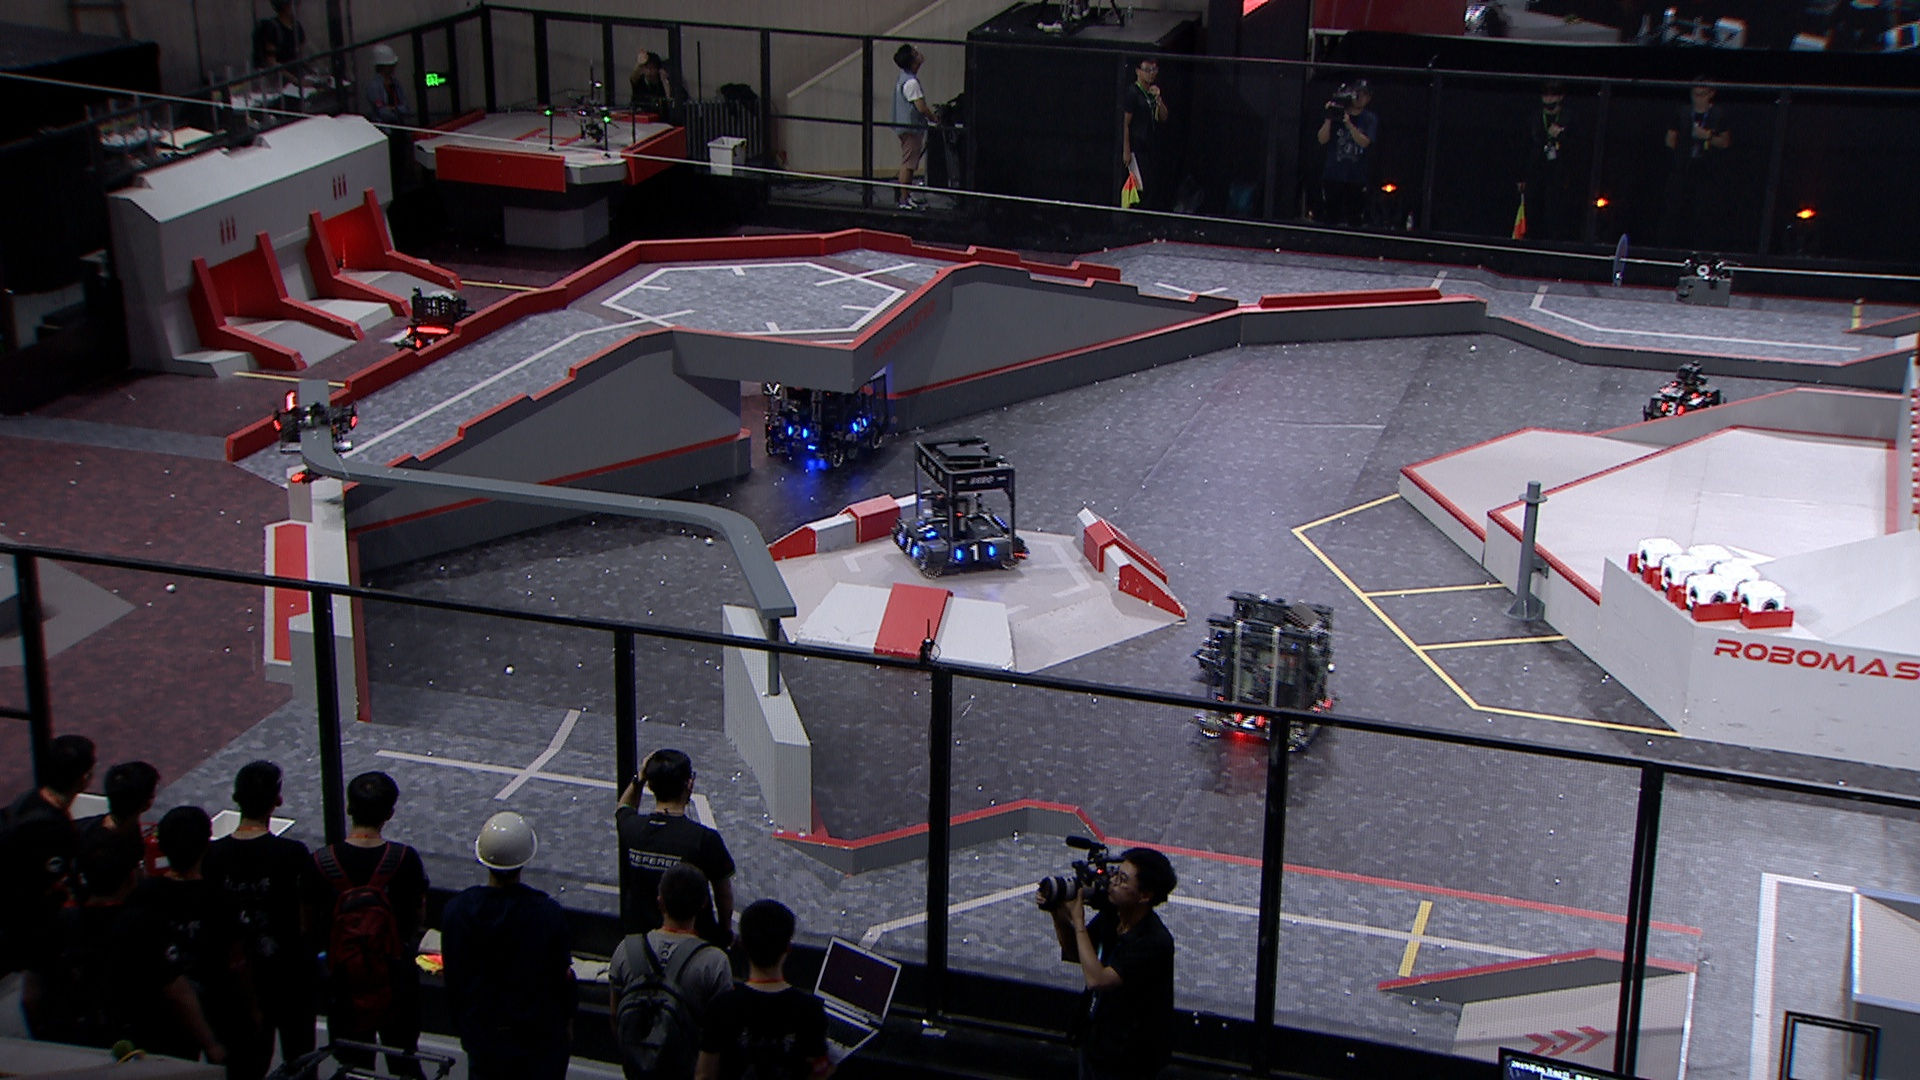armor: (897, 529, 920, 560), (955, 543, 992, 562), (1230, 711, 1262, 728), (915, 520, 936, 541), (785, 423, 808, 440), (1665, 386, 1695, 400), (1662, 400, 1681, 418), (1313, 692, 1328, 717), (852, 417, 869, 434), (415, 335, 434, 349)
car: (1188, 585, 1335, 750), (889, 433, 1026, 579), (761, 353, 891, 469), (396, 286, 477, 368), (1642, 361, 1727, 433)
watcher: (266, 385, 361, 485)
